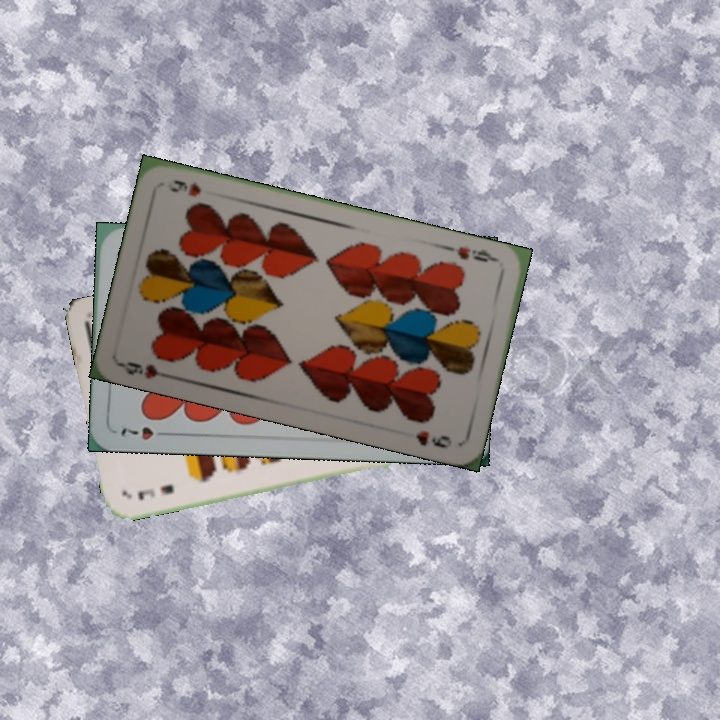E7: (134, 480, 176, 503)
H7: (117, 422, 173, 443)
H9: (117, 357, 176, 382), (444, 242, 502, 265)
